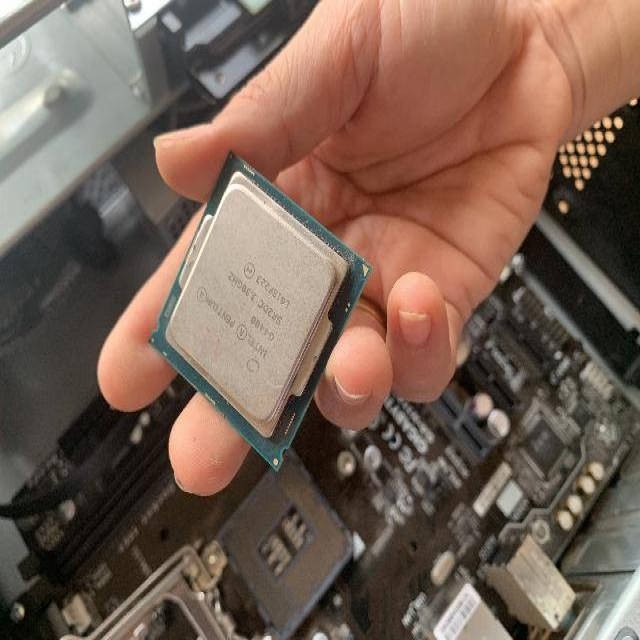CPU: (148, 147, 374, 472)
